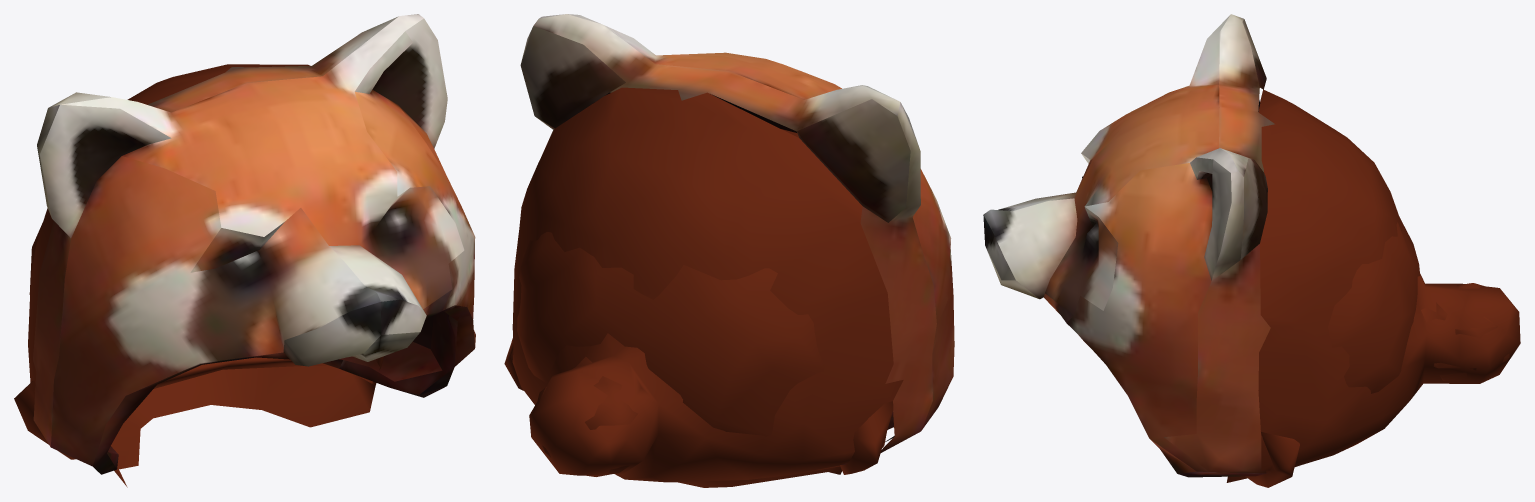
File: red-panda.glb
3 views of the same model, side by side, from view 1: azimuth 30°, elevation 25°; view 2: azimuth 150°, elevation 25°; view 3: azimuth 270°, elevation 25° (orthographic). The views are drawn at different scales.
Visible parts, largest first — view 1: geometry_0, HoodAnatomicalLining; view 2: geometry_0, HoodAnatomicalLining; view 3: geometry_0, HoodAnatomicalLining.
Boxes of the visible parts, x1,y1,x2,y2 form: geometry_0: (28, 14, 475, 474); HoodAnatomicalLining: (14, 223, 384, 487); geometry_0: (512, 14, 954, 482); HoodAnatomicalLining: (504, 129, 893, 487); geometry_0: (983, 14, 1520, 477); HoodAnatomicalLining: (1226, 171, 1420, 487).
Bounding box in the file's own units: 0.5371 × 0.5115 × 0.6993.
Materials: 2 (1 with a texture image).
